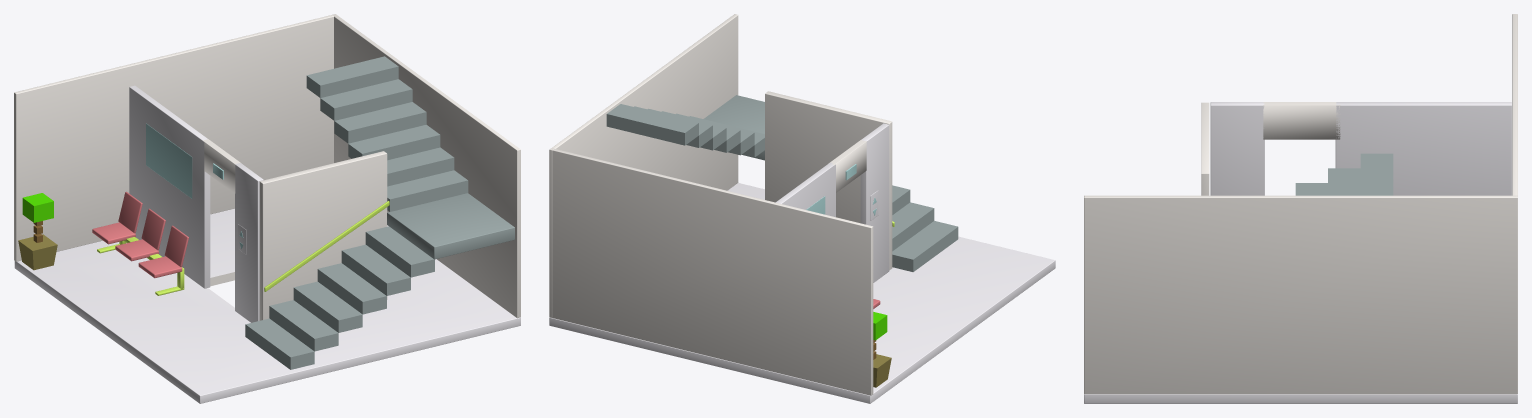
File: ground.gltf
The picture shows the model from 3 angles, left to right: view 1: azimuth 30°, elevation 25°; view 2: azimuth 150°, elevation 25°; view 3: azimuth 270°, elevation 25°; orthographic projection. The views are drawn at different scales.
Visible parts, largest first — view 1: side_wall, floor, back_wall, stair_wall, stair_top, stair_bottom, chair_wall, platform, chair, lift_open_wall, poster, lift_open_top_wall.1 (+3 smaller); view 2: side_wall, floor, back_wall, stair_wall, stair_top, stair_bottom, lift_open_wall, chair_wall, platform, lift_open_top_wall.1, Cube.16; view 3: back_wall, chair_wall, lift_open_wall, floor, lift_open_top_wall.1, stair_top, side_wall, stair_wall.
Part boxes in pixels (<box>): side_wall: <box>14,14,334,261</box>; floor: <box>14,208,520,403</box>; back_wall: <box>332,14,520,318</box>; stair_wall: <box>259,151,387,320</box>; stair_top: <box>306,56,468,211</box>; stair_bottom: <box>245,226,434,369</box>; chair_wall: <box>129,85,210,288</box>; platform: <box>387,193,514,259</box>; chair: <box>92,191,188,278</box>; lift_open_wall: <box>235,163,263,322</box>; poster: <box>146,123,192,198</box>; lift_open_top_wall.1: <box>202,139,240,193</box>; side_wall: <box>551,148,873,395</box>; floor: <box>549,183,1055,403</box>; back_wall: <box>549,14,738,317</box>; stair_wall: <box>765,91,892,270</box>; stair_top: <box>606,104,764,157</box>; stair_bottom: <box>892,185,958,271</box>; lift_open_wall: <box>860,123,889,282</box>; chair_wall: <box>775,162,835,217</box>; platform: <box>703,95,764,160</box>; lift_open_top_wall.1: <box>828,140,866,192</box>; Cube.16: <box>873,354,891,387</box>; back_wall: <box>1084,195,1517,394</box>; chair_wall: <box>1335,102,1511,195</box>; lift_open_wall: <box>1210,102,1264,195</box>; floor: <box>1084,394,1517,403</box>; lift_open_top_wall.1: <box>1263,102,1340,139</box>; stair_top: <box>1295,153,1393,195</box>; side_wall: <box>1512,14,1517,196</box>; stair_wall: <box>1201,102,1209,195</box>.
Size of the model in its own units: 8.04 by 4.2 by 8.
